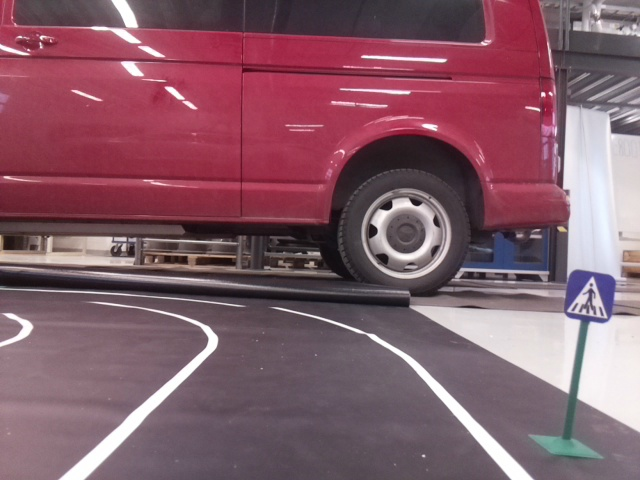Crosswalk: (565, 266, 608, 319)
